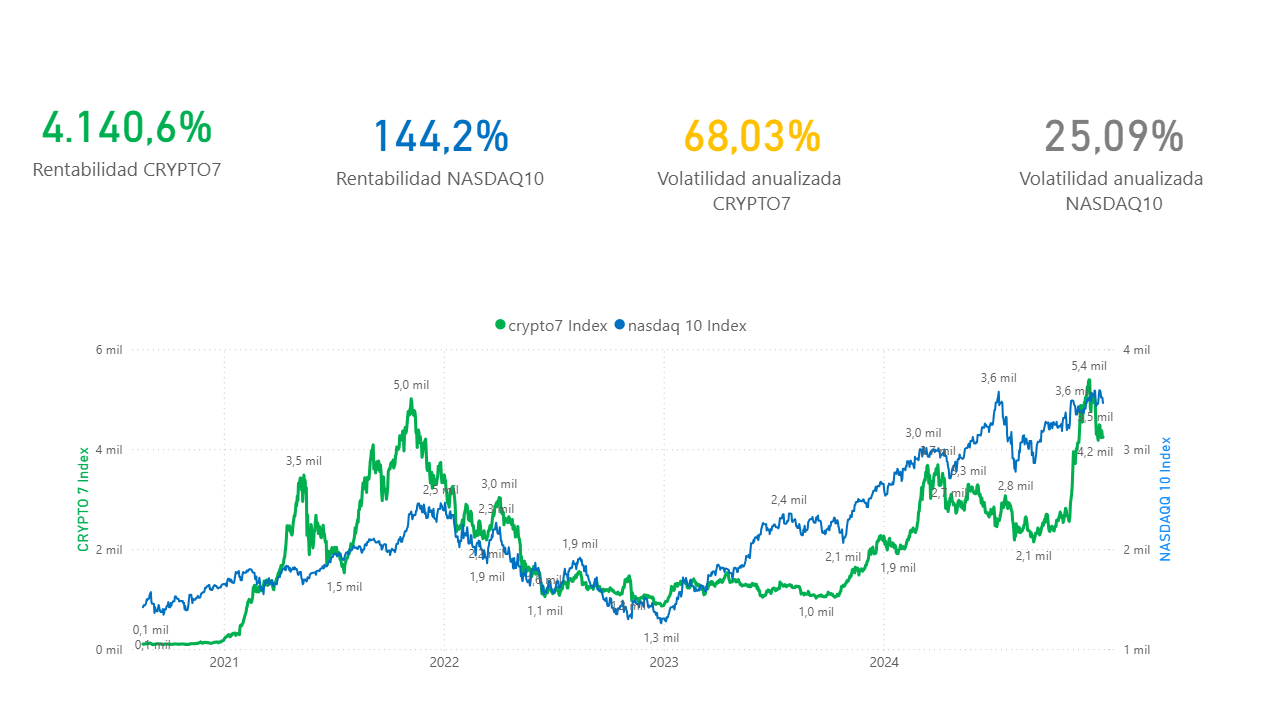

The page's visual inventory and layout, read from the dashboard file:
{"tool":"powerbi","page":{"name":"CRYPTO V NASDAQ","canvas":[1280,720],"ordinal":0},"visuals":[{"type":"card","fields":{"Values":["03_indices_data.Retorno_CRYPTO7"]},"box":[10,0,280,280],"z":0},{"type":"card","fields":{"Values":["03_indices_data.Retorno_NASDAQ10"]},"box":[314.2,8.8,280.1,280.1],"z":1000},{"type":"card","fields":{"Values":["03_indices_data.Volatilidad_CRYPTO7"]},"box":[617.6,8.8,280.1,280.1],"z":2000},{"type":"card","title":"Volatilidad","fields":{"Values":["03_indices_data.Volatilidad_NASDAQ10"]},"box":[969.7,8.8,280.1,280.1],"z":3000},{"type":"lineChart","fields":{"Y":["Sum(03_indices_data.crypto_7_index)"],"Y2":["Sum(03_indices_data.nasdaq_10_index)"],"Category":["03_indices_data.date"]},"box":[93.4,303.5,1077.7,368.6],"z":4000}]}

Visuals, with their boxes in screenshot pixels (x1, y1, x2, y2), scaled from the page's 1280x720 canvas onto the 1285x725 screenshot:
card - 03_indices_data.Retorno_CRYPTO7: {"x1": 10, "y1": 0, "x2": 291, "y2": 282}
card - 03_indices_data.Retorno_NASDAQ10: {"x1": 315, "y1": 9, "x2": 597, "y2": 291}
card - 03_indices_data.Volatilidad_CRYPTO7: {"x1": 620, "y1": 9, "x2": 901, "y2": 291}
"Volatilidad" card: {"x1": 973, "y1": 9, "x2": 1255, "y2": 291}
lineChart - Sum(03_indices_data.crypto_7_index) x Sum(03_indices_data.nasdaq_10_index): {"x1": 94, "y1": 306, "x2": 1176, "y2": 677}
